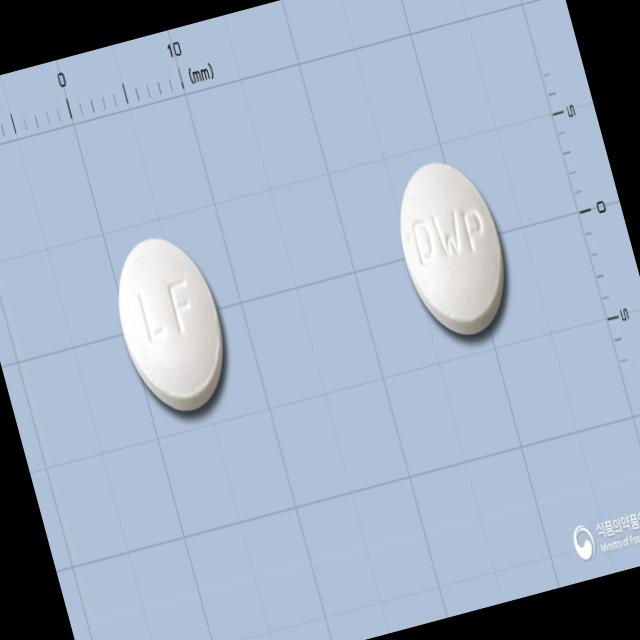Lefloxin: (100, 224, 242, 423), (382, 148, 521, 348)
